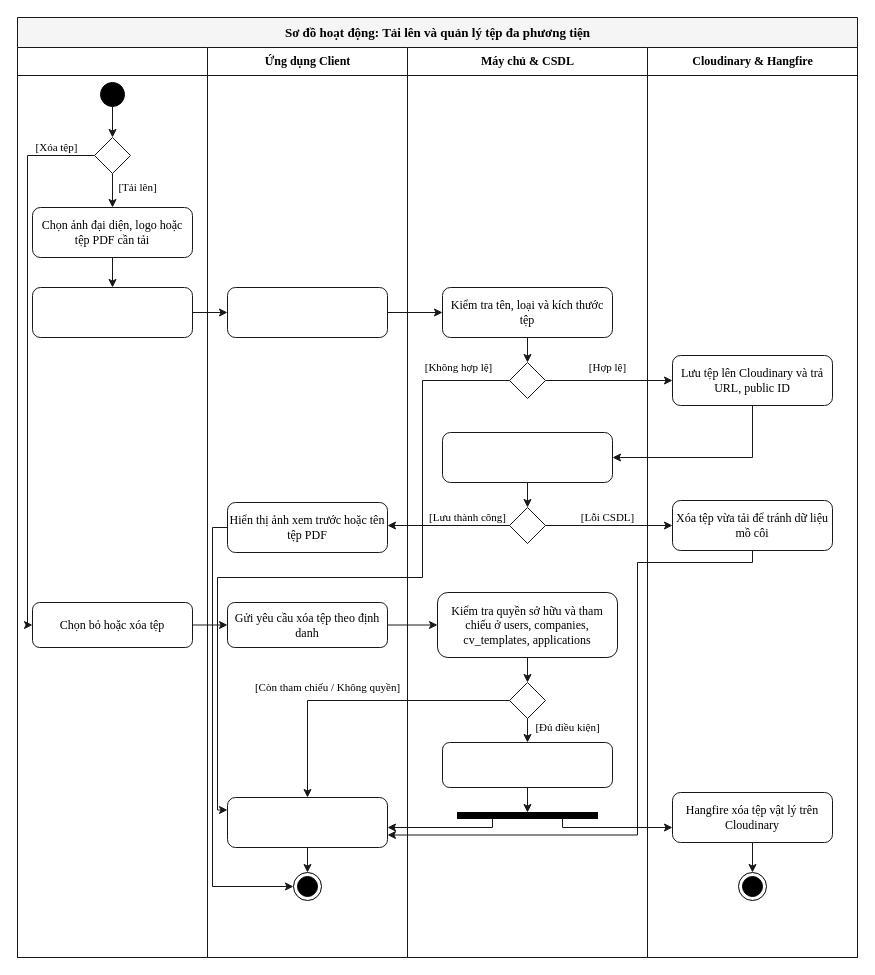
This 875x975 diagram has some shape labels left out. The box of each missing label's shape, as (x1, y1, x2, y2) in pixels:
Cắt chỉnh vùng ảnh (nếu là ảnh) và xác nhận: (32, 286, 192, 338)
Gửi tệp qua biểu mẫu multipart đến máy chủ: (226, 286, 388, 338)
Lưu thông tin tệp và chủ sở hữu vào media_files: (442, 432, 612, 482)
Người dùng: (16, 46, 208, 958)
Thông báo kết quả xử lý cho người dùng: (226, 796, 388, 848)
Đánh dấu bản ghi đã xóa trong media_files: (442, 742, 612, 788)
